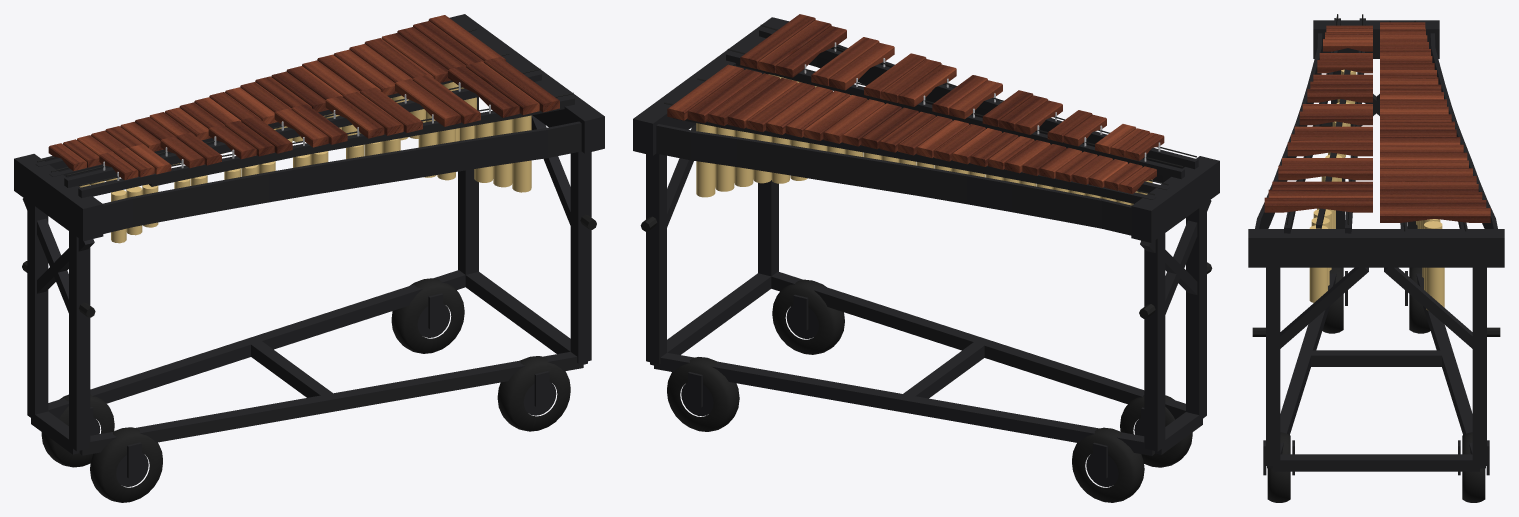
File: xylophone-3.5.glb
The picture shows the model from 3 angles, left to right: view 1: azimuth 30°, elevation 25°; view 2: azimuth 150°, elevation 25°; view 3: azimuth 270°, elevation 25°; orthographic projection. The views are drawn at different scales.
Visible parts, largest first — view 1: frame, bars-rosewood, artwork, rubber, resonators-gold; view 2: frame, bars-rosewood, rubber, resonators-gold; view 3: frame, bars-rosewood, rubber, resonators-gold.
Boxes of the visible parts, x1,y1,x2,y2 form: frame: (14,14,604,486); bars-rosewood: (48,15,559,180); artwork: (103,123,581,233); rubber: (22,28,596,502); resonators-gold: (79,82,531,243); frame: (633,17,1219,486); bars-rosewood: (667,14,1164,194); rubber: (640,24,1212,502); resonators-gold: (696,74,1152,205); frame: (1248,18,1504,475); bars-rosewood: (1264,22,1490,222); rubber: (1252,14,1500,502); resonators-gold: (1309,69,1444,310).
Size of the model in its own units: 1.45 by 0.94 by 0.7214.
Materials: 6 (1 with a texture image).
